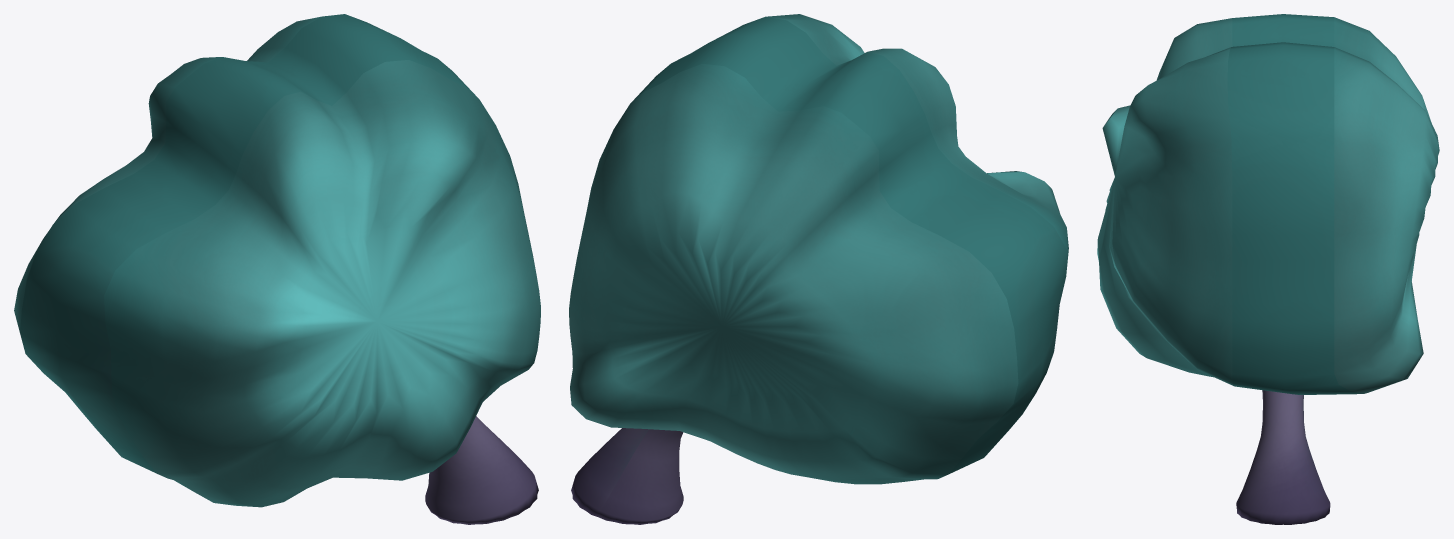
File: Willow But Cloud FBX.fbx
The picture shows the model from 3 angles, left to right: view 1: azimuth 30°, elevation 25°; view 2: azimuth 150°, elevation 25°; view 3: azimuth 270°, elevation 25°; orthographic projection. The views are drawn at different scales.
Parts seen in each view (by area): view 1: pCylinder2; view 2: pCylinder2; view 3: pCylinder2.
Part boxes in pixels (x1,y1,x2,y2): pCylinder2: (14, 14, 540, 524); pCylinder2: (569, 14, 1068, 524); pCylinder2: (1097, 14, 1439, 524).
Size of the model in its own units: 5.75 by 5.79 by 4.29.
1 material, 1 textured.
